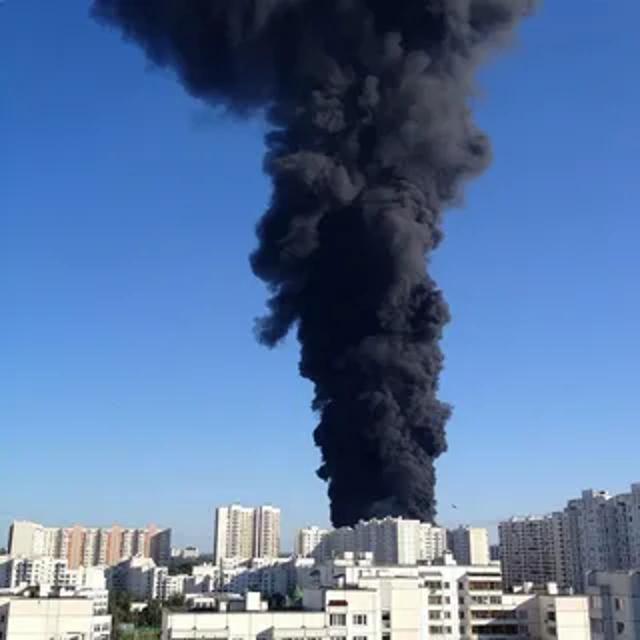Smoke: (82, 0, 534, 524)
